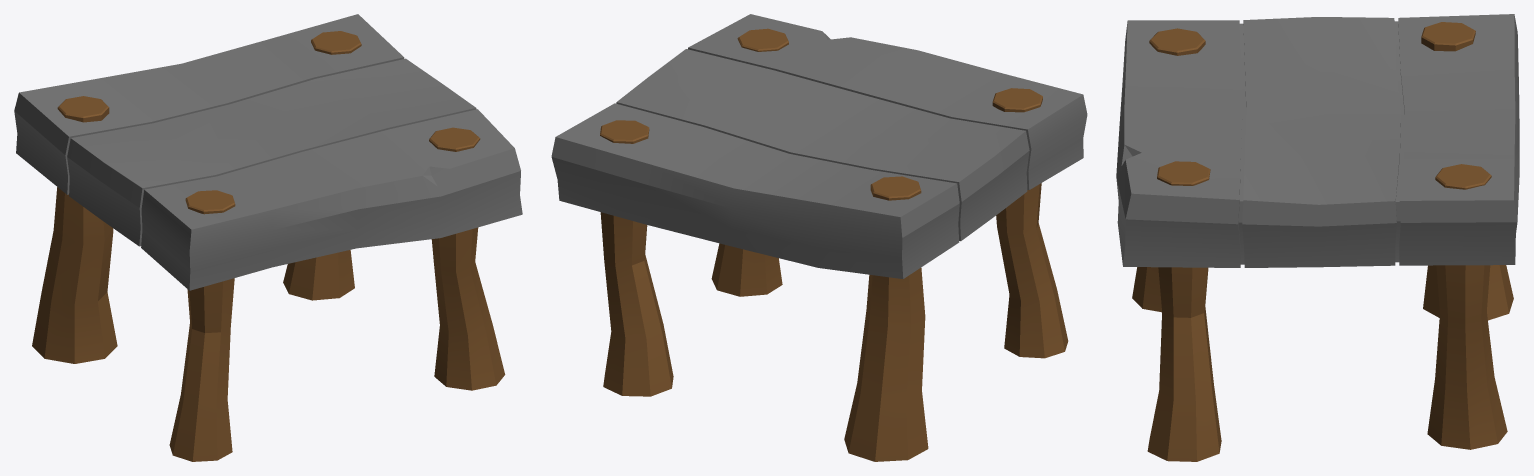
File: sillas 2.fbx
3 renders of one model, left to right at view 1: azimuth 30°, elevation 25°; view 2: azimuth 150°, elevation 25°; view 3: azimuth 270°, elevation 25°, orthographic. The views are drawn at different scales.
Parts seen in each view (by area): view 1: Cube; view 2: Cube; view 3: Cube.
Boxes of the visible parts, bbox=[...] form: Cube: bbox=[14, 14, 522, 461]; Cube: bbox=[551, 14, 1087, 461]; Cube: bbox=[1116, 14, 1519, 461].
Size of the model in its own units: 185 by 126 by 170.
